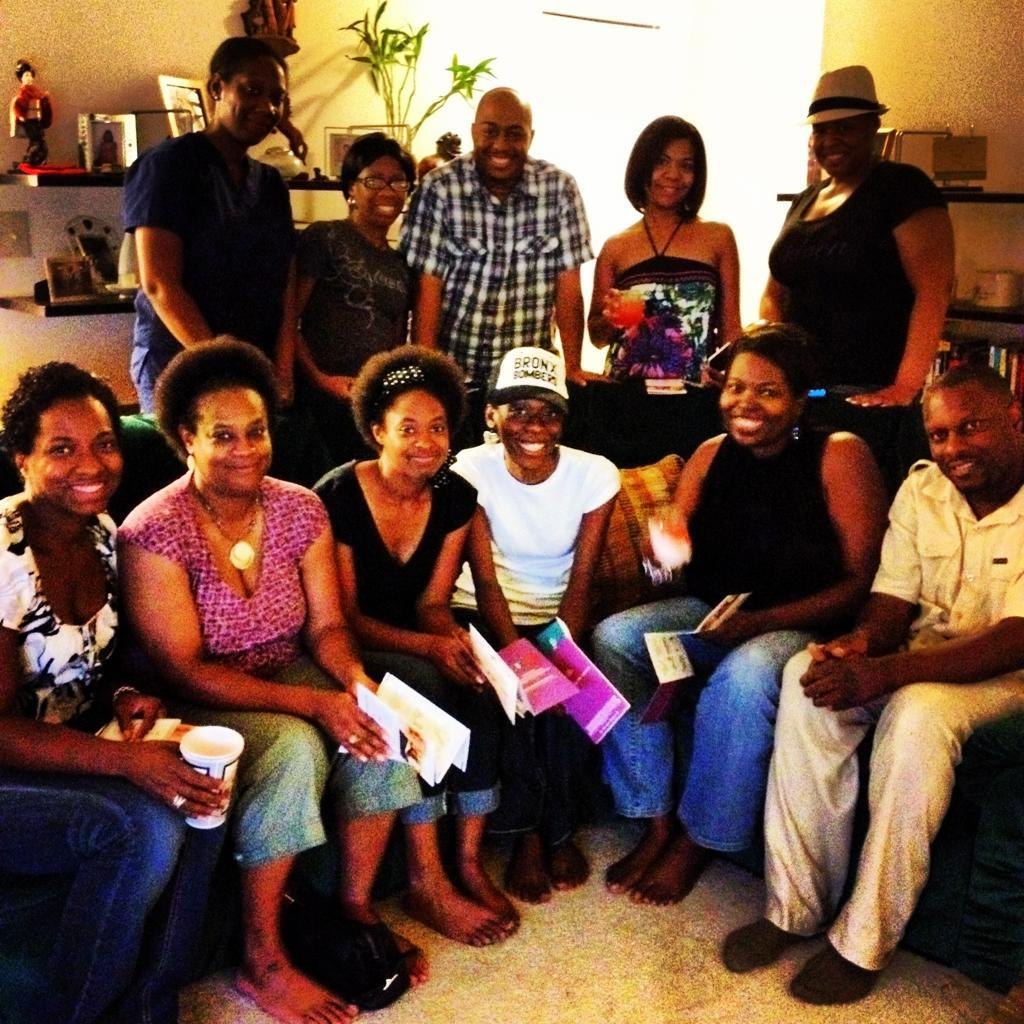face: (29, 398, 123, 515), (920, 386, 1008, 488), (194, 384, 271, 497), (724, 363, 792, 447), (382, 396, 452, 474), (221, 65, 287, 145), (498, 389, 558, 470), (809, 98, 869, 177), (474, 107, 533, 180), (647, 138, 698, 211), (356, 162, 410, 227), (22, 72, 33, 85)
